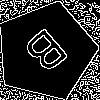B: (21, 26, 78, 83)
